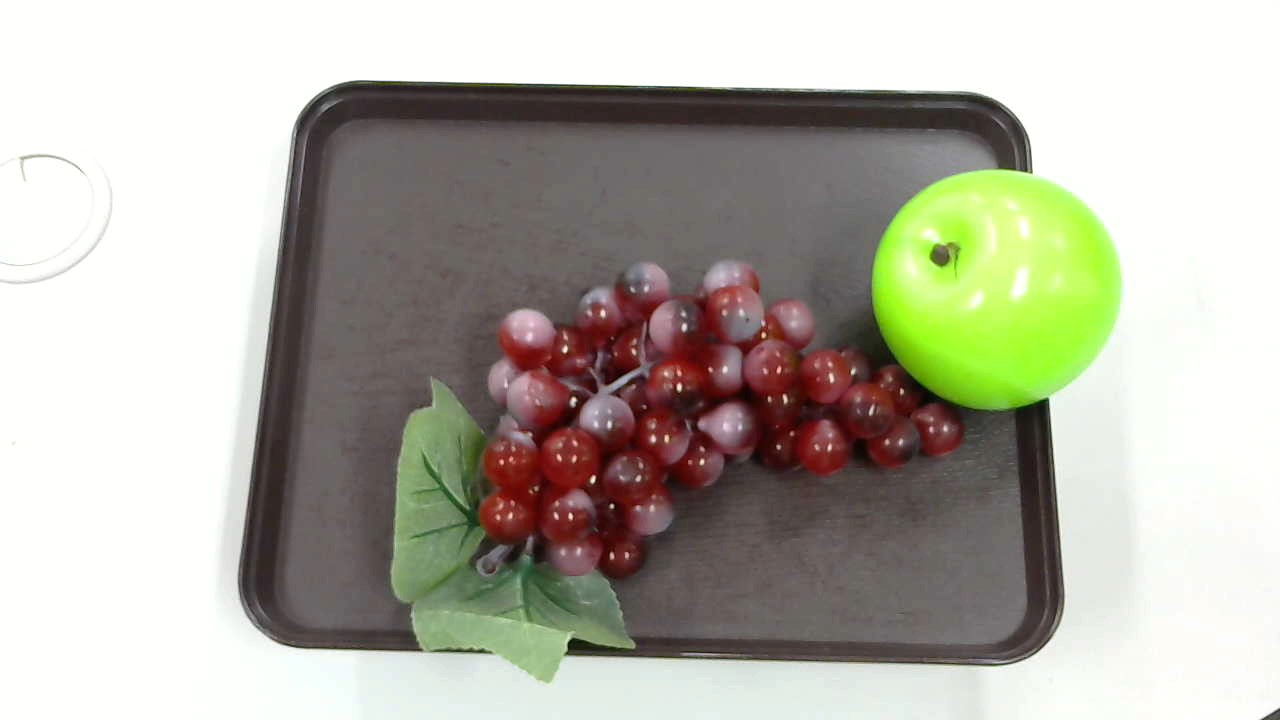grape: (386, 258, 974, 685)
green apple: (868, 169, 1122, 413)
